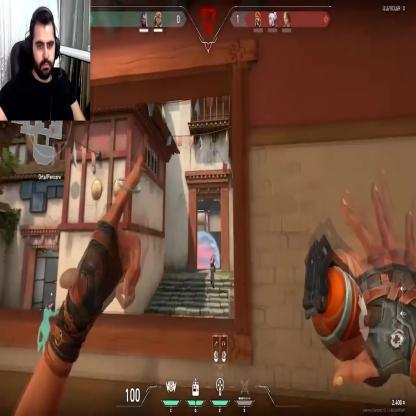enemy: (209, 254, 216, 288)
enemy_head: (210, 255, 212, 260)
